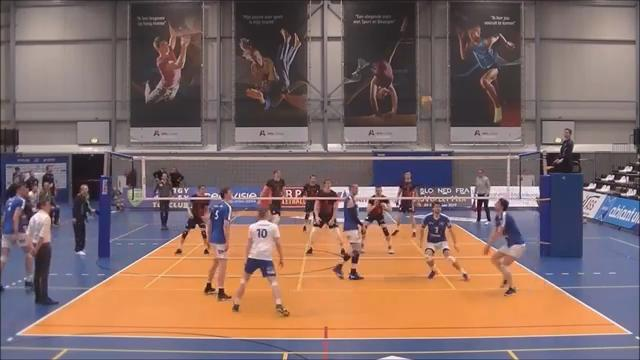Player: (232, 208, 289, 316), (420, 201, 468, 280), (0, 183, 32, 287), (204, 188, 231, 300), (306, 179, 345, 254), (333, 184, 362, 279), (175, 185, 209, 254), (362, 186, 394, 253), (392, 171, 415, 236), (265, 170, 285, 197), (303, 199, 314, 230)
Set: (481, 194, 528, 299)
ball: (422, 95, 432, 105)
